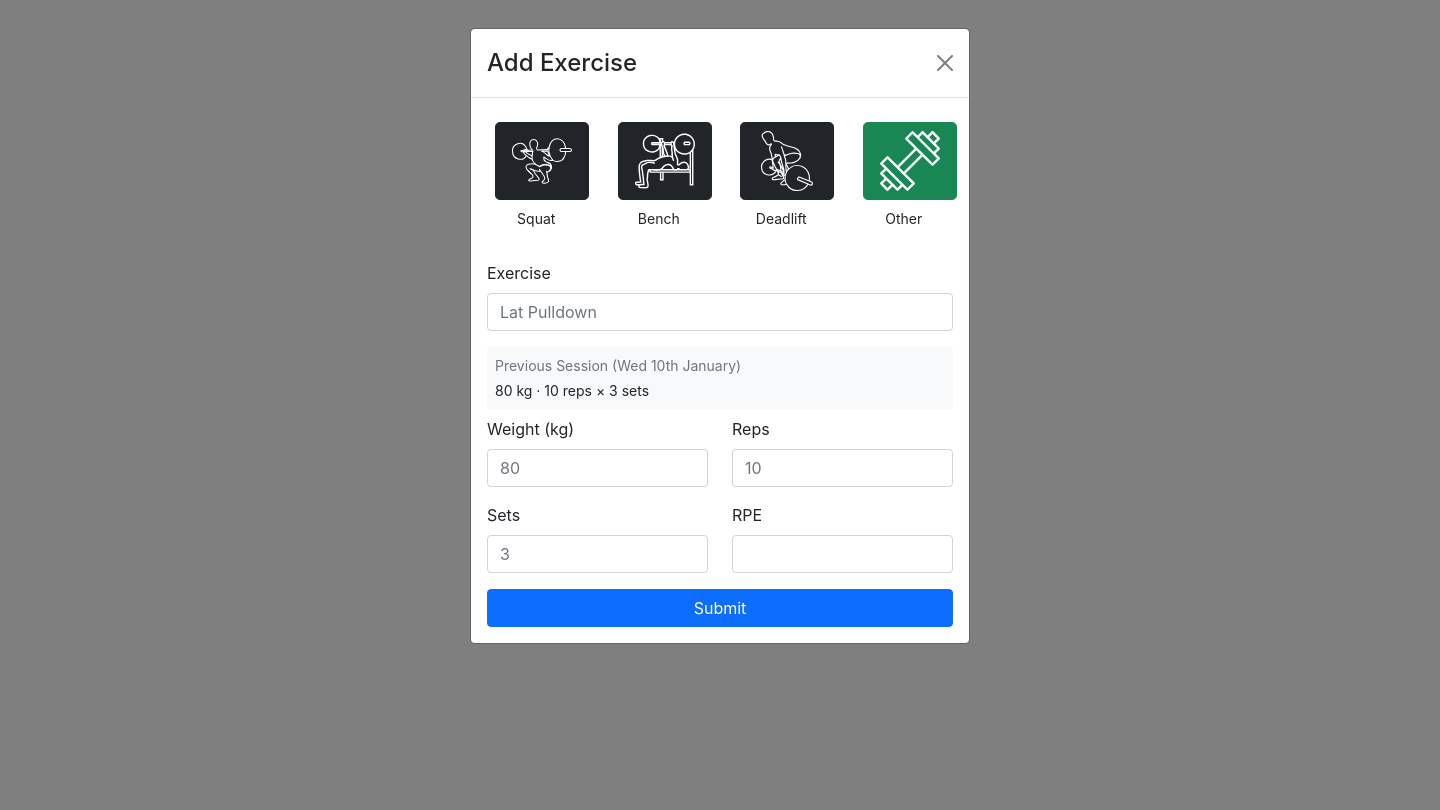
Test: AddExerciseModal › shows matching suggestions as the user types in the description field
The image size is (1440, 810).
Type "Cable" into the field labelled "Exercise" at (720, 312), box [487,293,953,331]
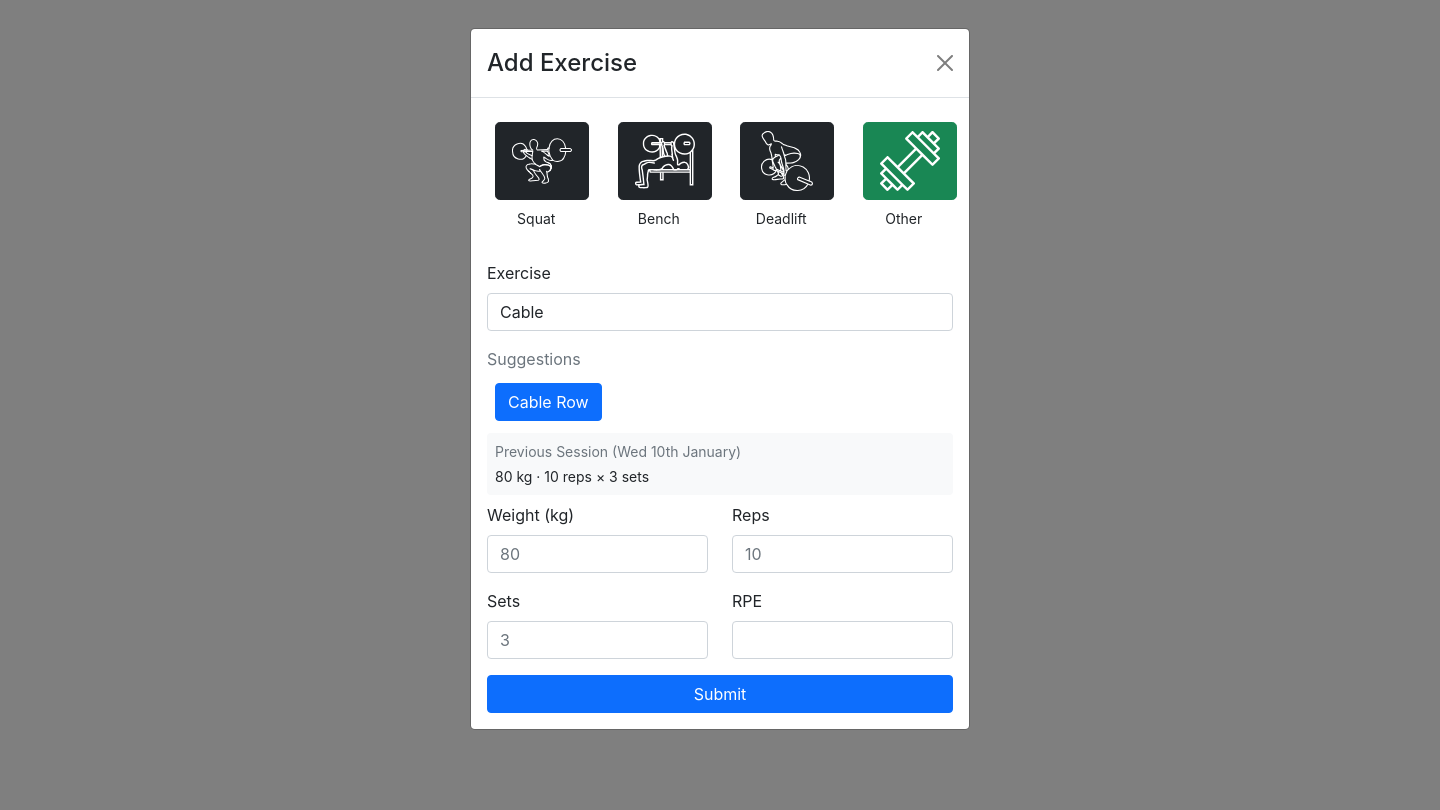
Expected: the button "Cable Row" is shown, [495,383,602,421]
